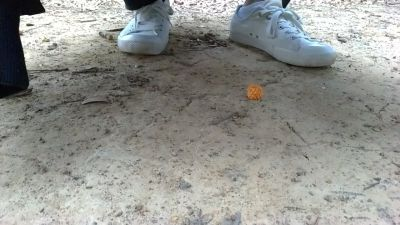eggs: (245, 82, 264, 103)
